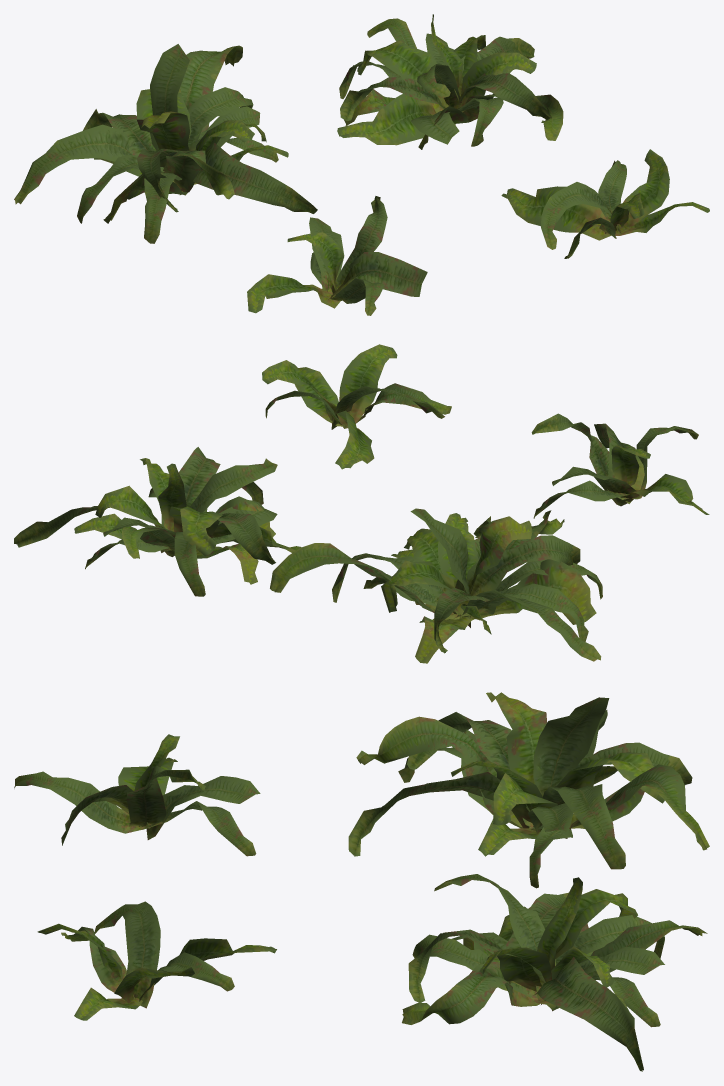
File: fern_02.glb
The picture shows the model from 3 angles, top to bottom: view 1: azimuth 30°, elevation 25°; view 2: azimuth 150°, elevation 25°; view 3: azimuth 270°, elevation 25°; orthographic projection. The views are drawn at different scales.
Parts seen in each view (by area): view 1: fern_02_b; view 2: fern_02_b; view 3: fern_02_b.
Boxes of the visible parts, left/top/right/bottom form: fern_02_b: left=14, top=14, right=709, bottom=315; fern_02_b: left=14, top=344, right=709, bottom=663; fern_02_b: left=14, top=692, right=709, bottom=1071.
Size of the model in its own units: 1.97 by 0.4277 by 1.72.
Materials: 1 (1 with a texture image).
